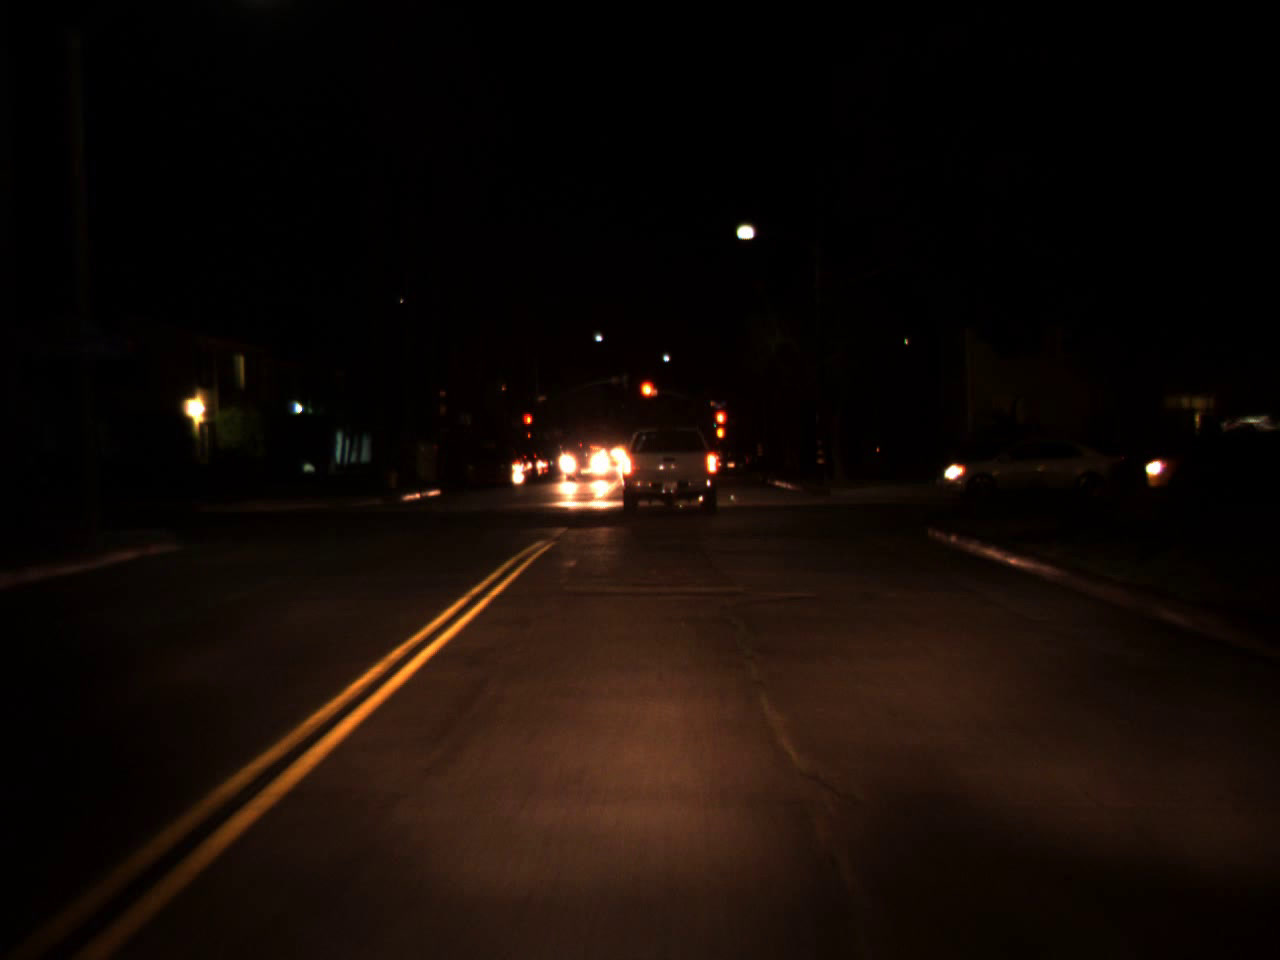stop: (637, 378, 659, 415), (715, 409, 727, 441), (522, 411, 534, 438)
